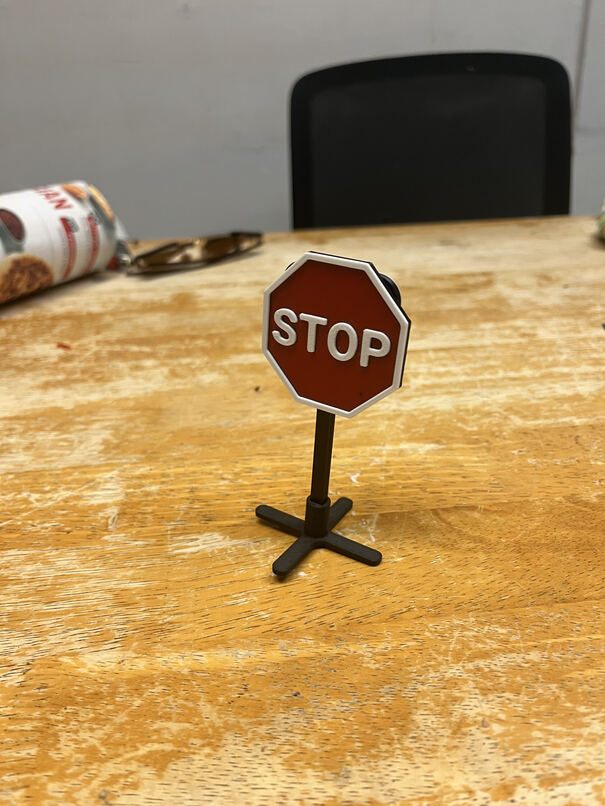sign_stop: (258, 253, 410, 417)
